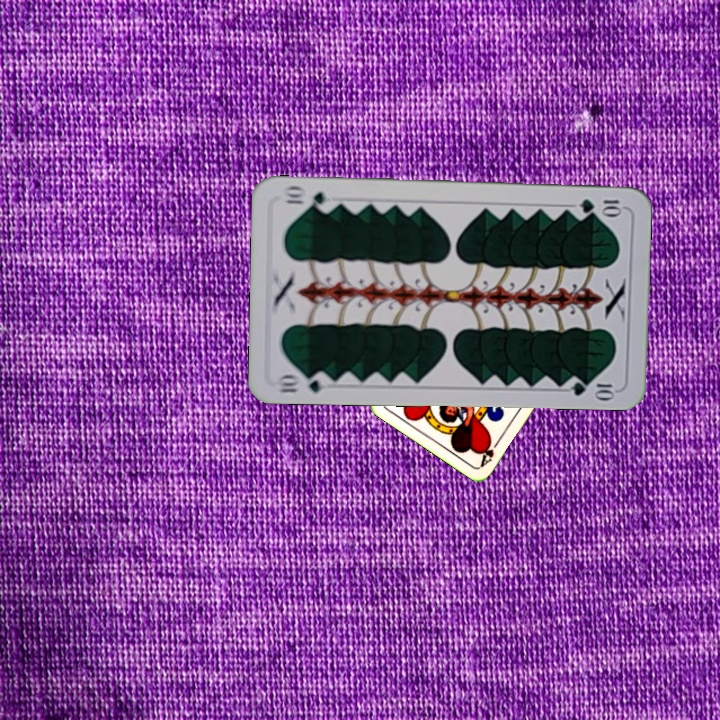G10: (273, 369, 332, 396), (575, 195, 625, 216)
HA: (477, 431, 505, 468)
